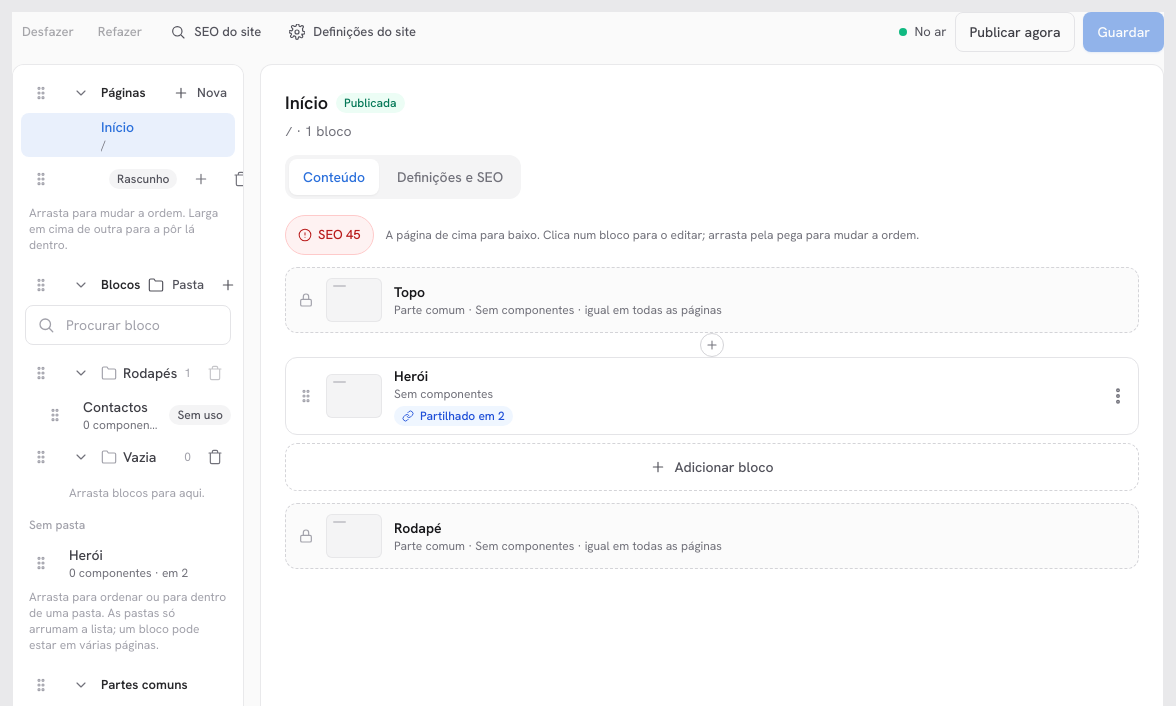
Test case: Paginas · lista lateral › escolher um bloco ou uma parte comum mostra-o no centro
The image size is (1176, 706).
Click the button "Contactos 0 componentes".
click(126, 415)  # box top-left (83, 393), bottom-right (169, 437)
(page scrolled)
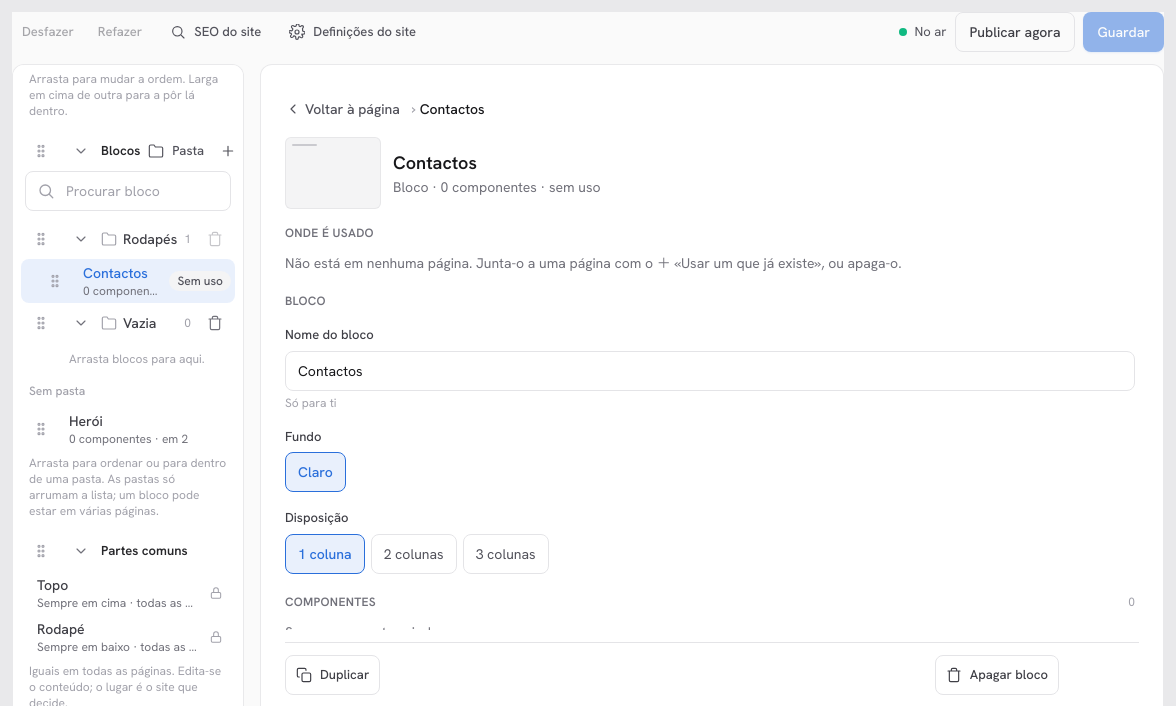
Check: the heading "Contactos" is shown, box top-left (393, 151), bottom-right (477, 174)
Click the button "Rodapé".
click(117, 637)  # box top-left (25, 615), bottom-right (209, 659)
(page scrolled)
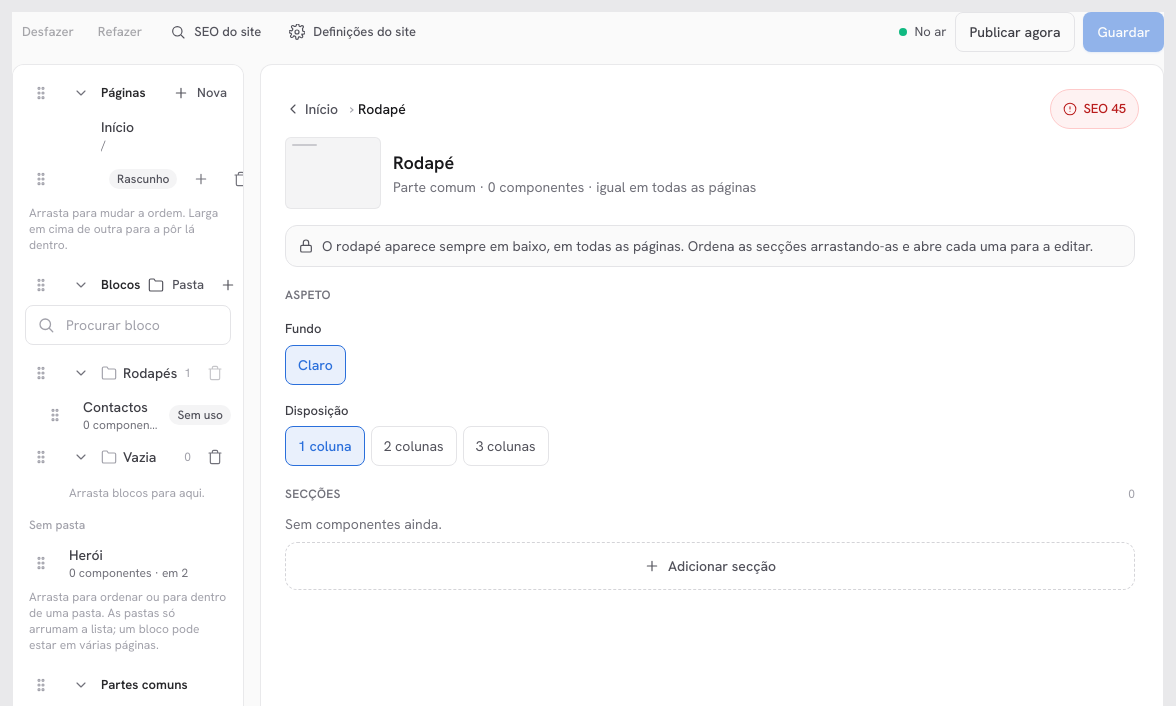
Check: the heading "Rodapé" is shown, box top-left (393, 151), bottom-right (454, 174)
